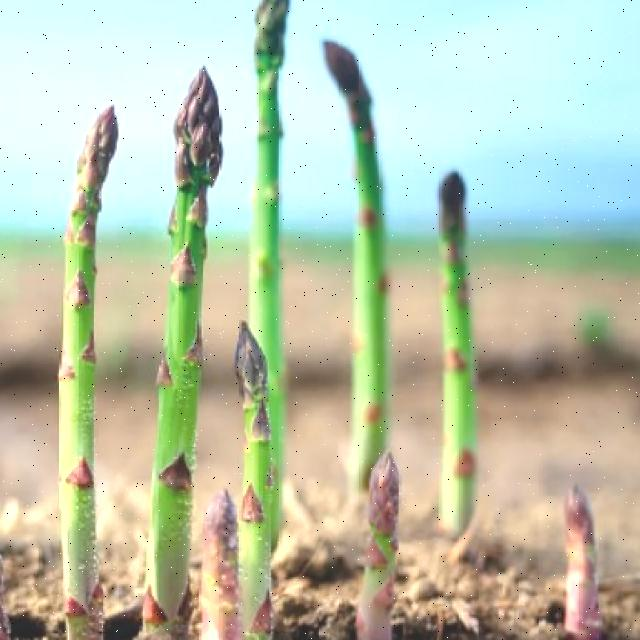aspargus: (144, 68, 221, 639), (58, 106, 117, 640), (323, 40, 389, 493), (437, 172, 478, 536), (234, 322, 276, 640), (356, 451, 402, 640), (564, 485, 602, 640)
